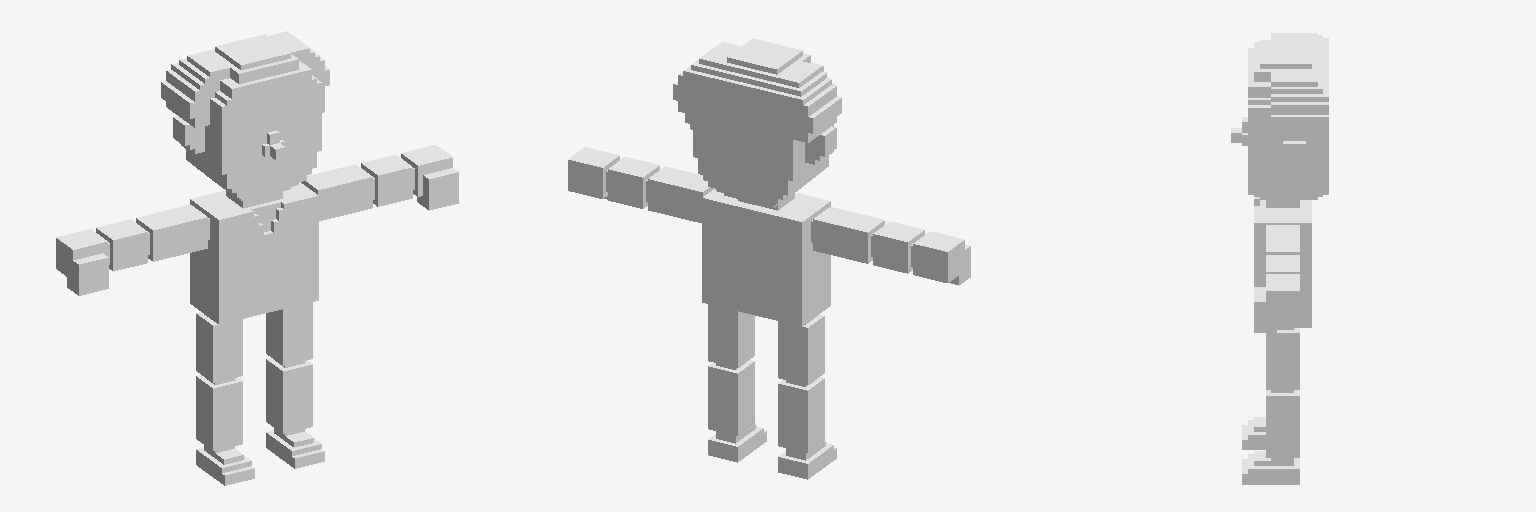
The model's file is GRANDPA.obj.
3 renders of one model, left to right at view 1: azimuth 30°, elevation 25°; view 2: azimuth 150°, elevation 25°; view 3: azimuth 270°, elevation 25°, orthographic.
Parts seen in each view (by area): view 1: GRANDPA; view 2: GRANDPA; view 3: GRANDPA.
Boxes of the visible parts, <box> form: GRANDPA: <box>56,31,458,485</box>; GRANDPA: <box>568,38,970,479</box>; GRANDPA: <box>1231,33,1328,484</box>.
Bounding box in the file's own units: 76 × 78 × 17.